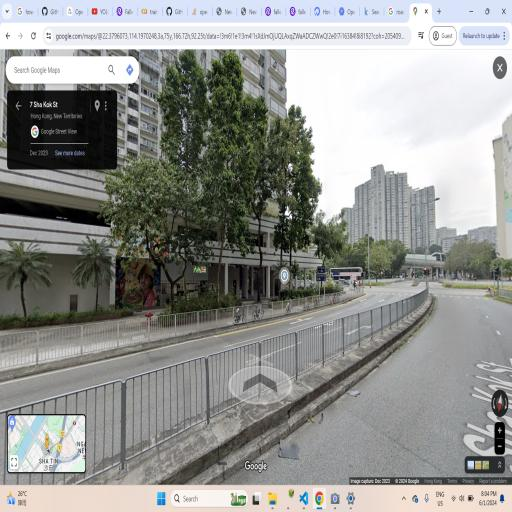Roads: (13, 268, 512, 472)
Trees: (178, 69, 236, 324), (120, 156, 194, 318), (241, 100, 274, 308), (277, 114, 301, 294), (70, 230, 112, 320), (1, 234, 40, 328), (311, 208, 346, 296)
